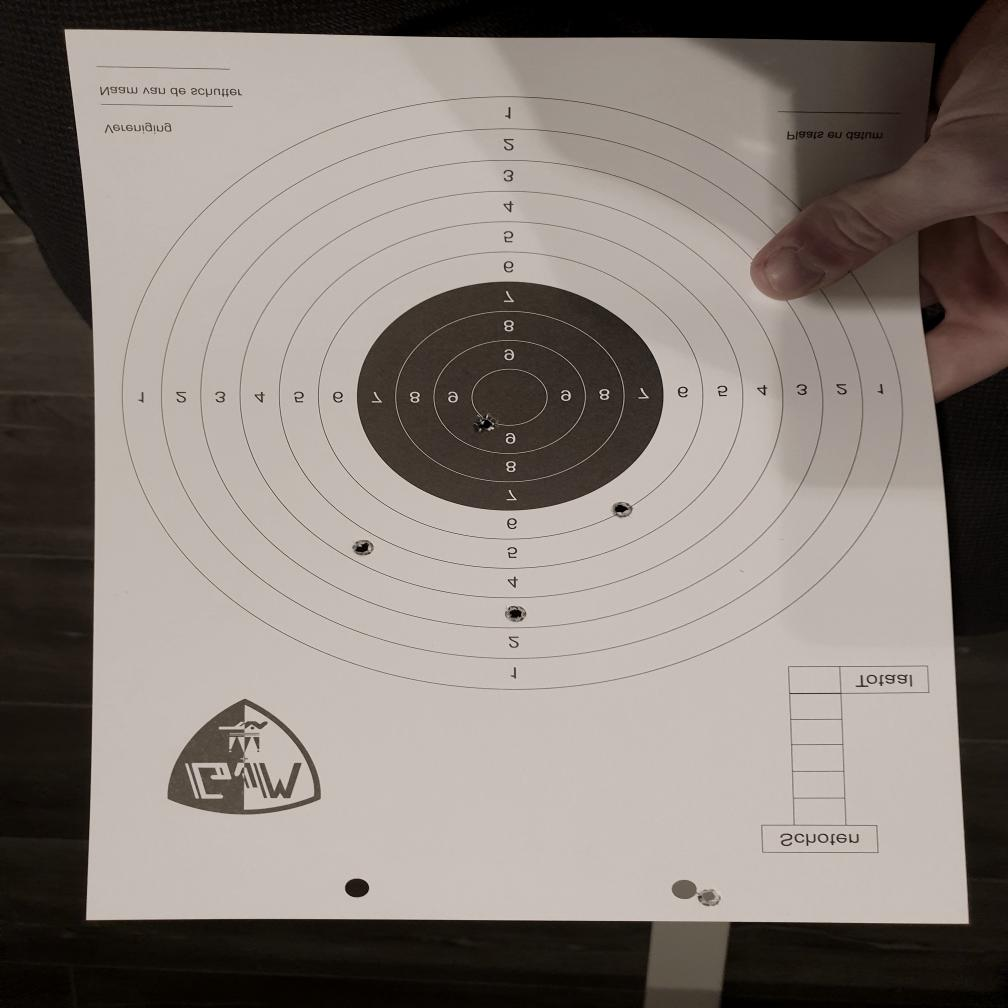0: (697, 888, 722, 908)
10: (472, 412, 500, 434)
3: (503, 604, 528, 623)
4: (350, 538, 376, 557)
6: (610, 500, 634, 520)
Target: (116, 91, 906, 695)
black_contour: (355, 282, 664, 511)
